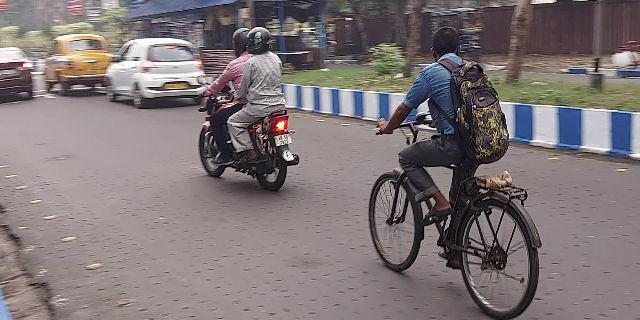Car: (106, 36, 206, 112), (40, 29, 112, 93), (1, 44, 38, 107)
Cycle: (364, 24, 542, 314)
Motorbike: (193, 22, 304, 194)
